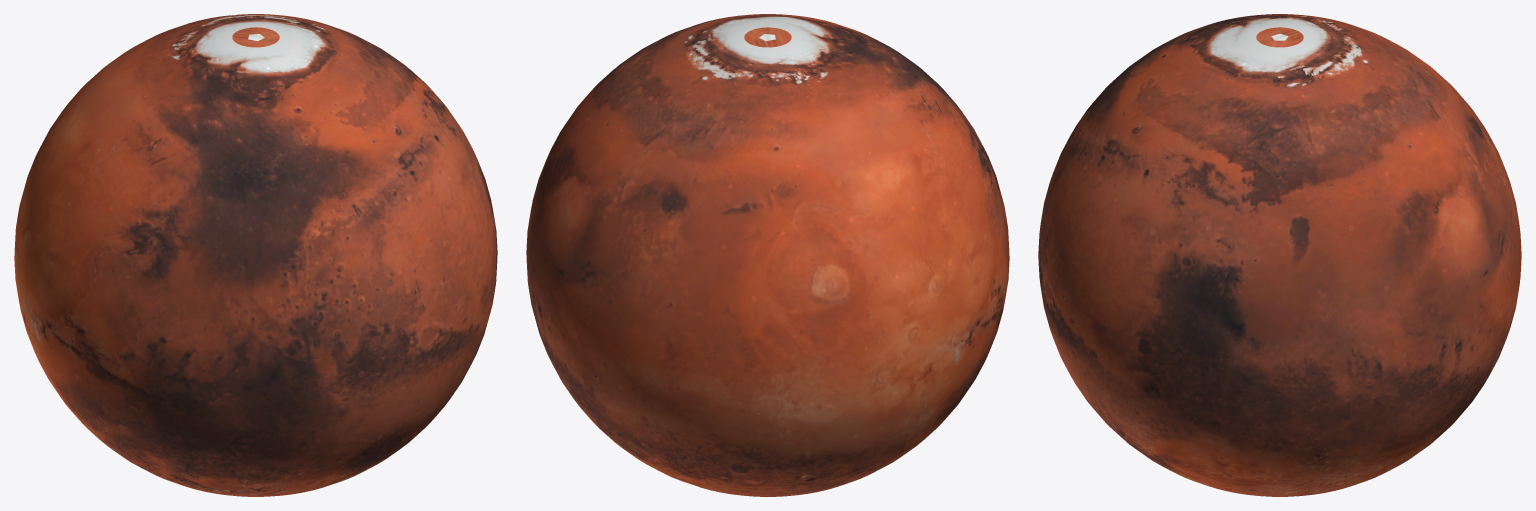
Rendered from Mars.glb.
The picture shows the model from 3 angles, left to right: view 1: azimuth 30°, elevation 25°; view 2: azimuth 150°, elevation 25°; view 3: azimuth 270°, elevation 25°; orthographic projection.
Visible parts, largest first — view 1: Mars, Mars_Lod; view 2: Mars, Mars_Lod; view 3: Mars, Mars_Lod.
Part boxes in pixels (<box>): Mars: <box>14,14,497,496</box>; Mars_Lod: <box>19,20,496,490</box>; Mars: <box>526,14,1009,496</box>; Mars_Lod: <box>527,20,1004,490</box>; Mars: <box>1038,14,1521,496</box>; Mars_Lod: <box>1048,17,1511,495</box>.
Size of the model in its own units: 2 by 2 by 2.
2 materials, 2 textured.
